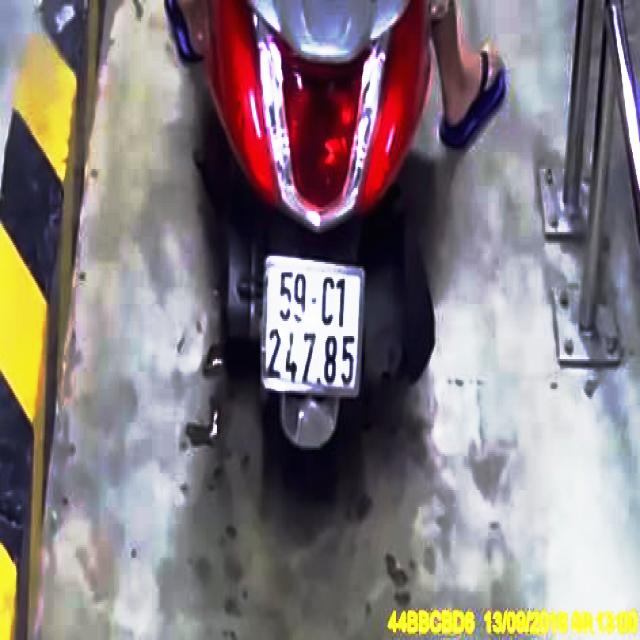license_plate: (262, 256, 367, 397)
